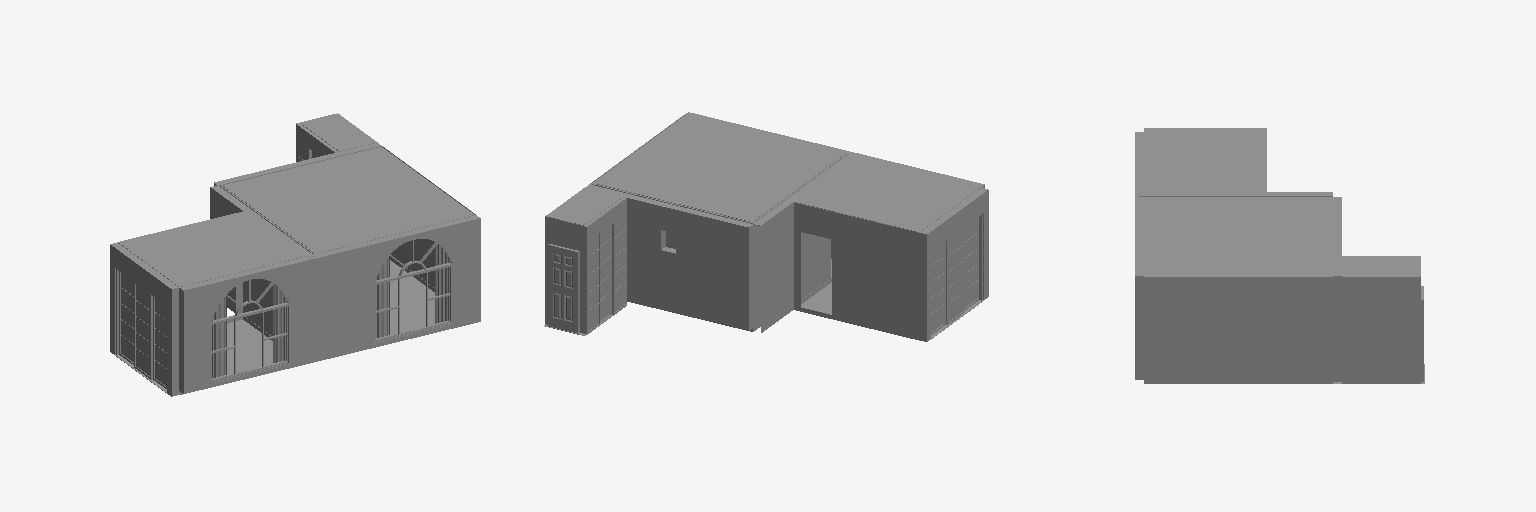
The model's file is bedroom3_layout.obj.
3 renders of one model, left to right at view 1: azimuth 30°, elevation 25°; view 2: azimuth 150°, elevation 25°; view 3: azimuth 270°, elevation 25°, orthographic.
Parts seen in each view (by area): view 1: wall.002, ceiling.002, floor.002, door.001, curtain.002, window.003, window.002; view 2: wall.002, ceiling.002, door.001, door.002, door, floor.002; view 3: wall.002, ceiling.002.
Part boxes in pixels (x1,y1,x2,y2): wall.002: (110, 123, 480, 396); ceiling.002: (118, 113, 474, 286); floor.002: (115, 256, 465, 394); door.001: (119, 272, 166, 388); curtain.002: (212, 244, 449, 377); window.003: (210, 277, 289, 383); window.002: (374, 237, 453, 342); wall.002: (545, 112, 988, 341); ceiling.002: (546, 116, 980, 232); door.001: (931, 217, 978, 334); door.002: (587, 213, 626, 333); door: (550, 247, 575, 332); floor.002: (544, 255, 983, 340); wall.002: (1135, 128, 1423, 383); ceiling.002: (1144, 131, 1420, 275).
Size of the model in its own units: 8.25 by 2.8 by 6.8.